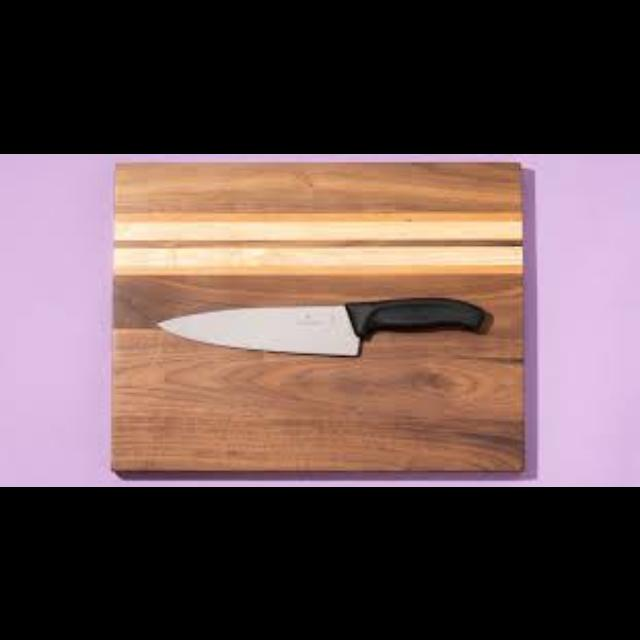Knife: (154, 296, 493, 356)
